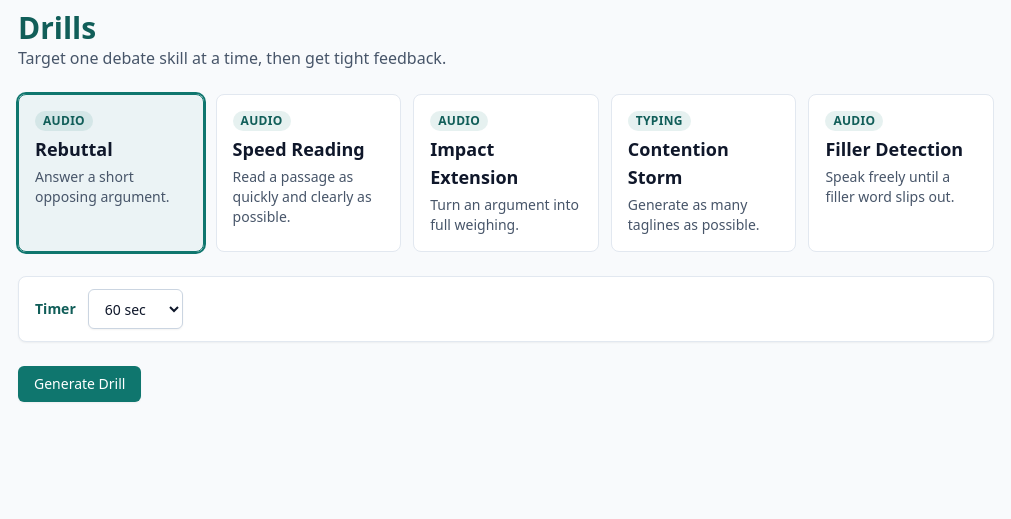
DrillsClient › clears the current drill when switching drill type
Click the button "Generate Drill" at (80, 384), box top-left (18, 366), bottom-right (141, 402)
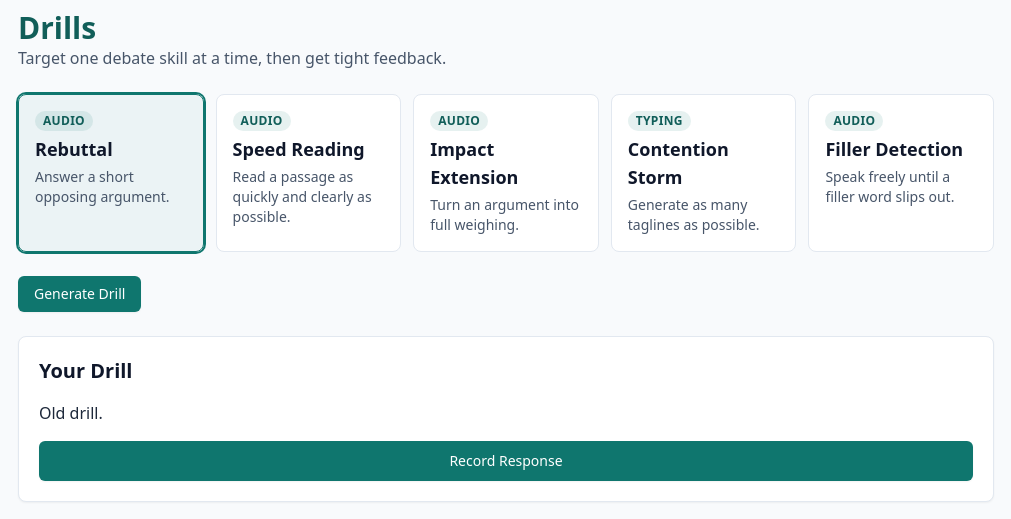
Now the text "Old drill." is shown, box top-left (39, 402), bottom-right (103, 424)
Click the button "Audio Impact Extension Turn an argument into full weighing." at (506, 173), box top-left (413, 94), bottom-right (599, 252)
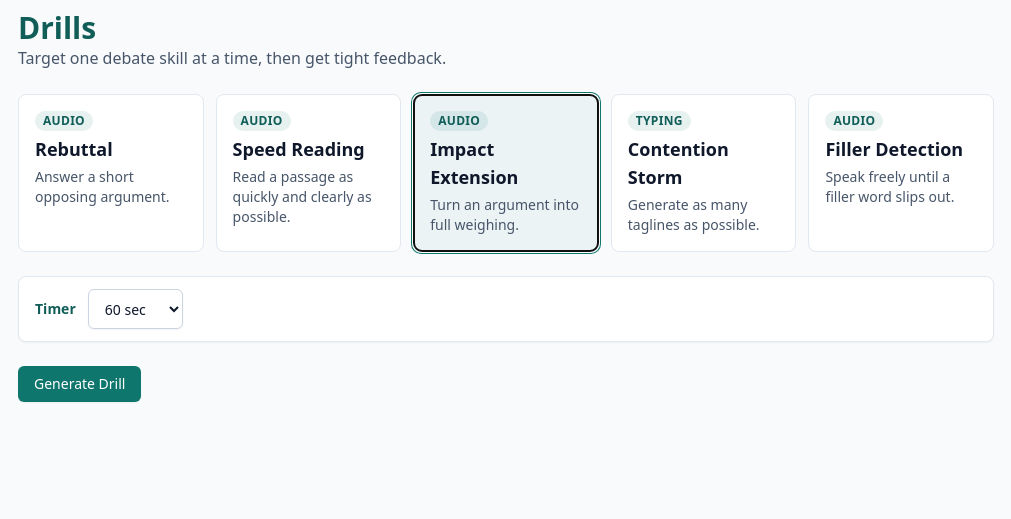
Now the text "Old drill." is gone
